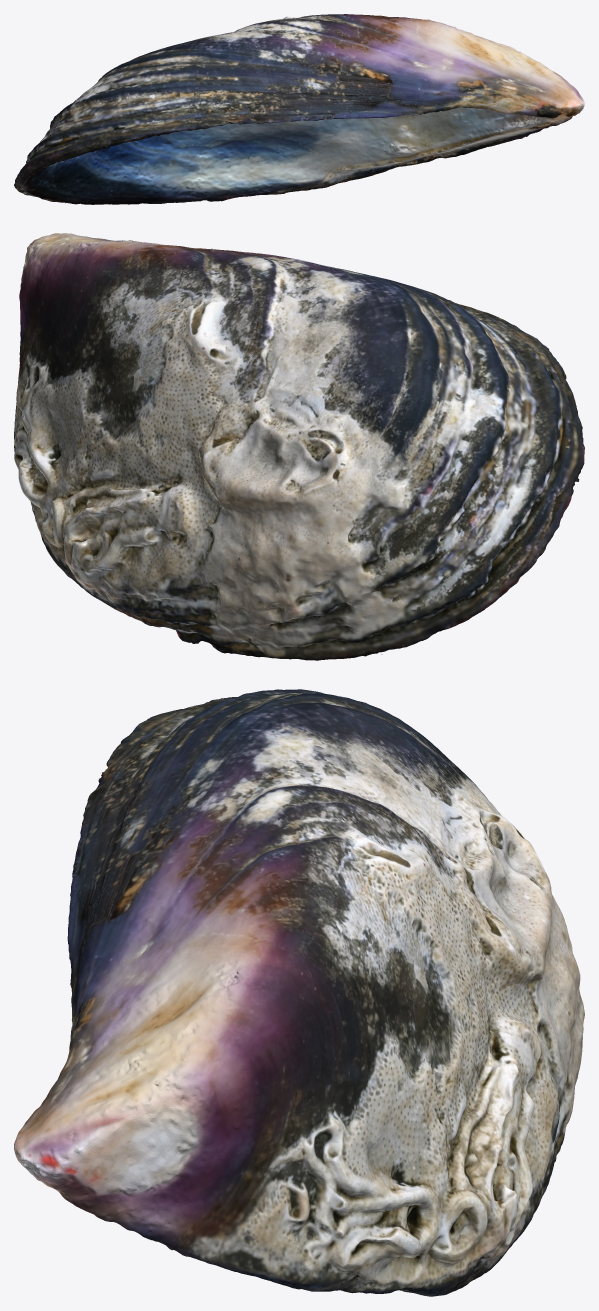
Rendered from MZUR3D-037.glb.
3 views of the same model, one above another, from view 1: azimuth 30°, elevation 25°; view 2: azimuth 150°, elevation 25°; view 3: azimuth 270°, elevation 25° (orthographic). The views are drawn at different scales.
Parts seen in each view (by area): view 1: MZUR3D-037; view 2: MZUR3D-037; view 3: MZUR3D-037.
Boxes of the visible parts, x1,y1,x2,y2 form: MZUR3D-037: (14, 14, 584, 204); MZUR3D-037: (14, 233, 584, 660); MZUR3D-037: (14, 689, 584, 1296).
Bounding box in the file's own units: 0.4327 × 0.1972 × 0.2405.
1 material, 1 textured.
